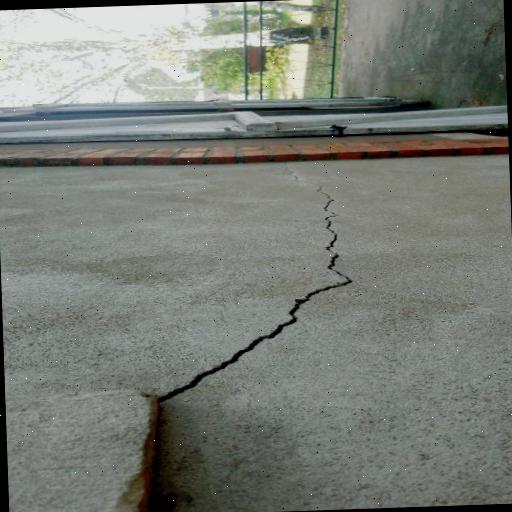spalling: (158, 226, 358, 405)
